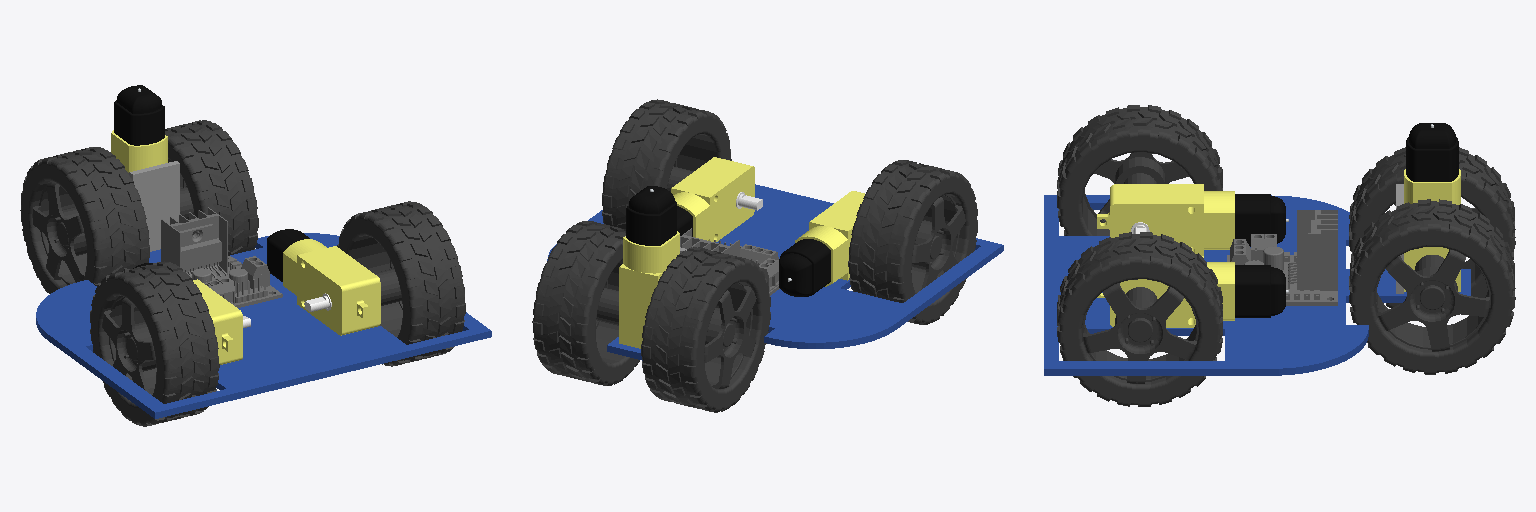
robot.urdf — cb_robot:
<?xml version="1.0" ?>
<!-- Generated using onshape-to-robot -->
<!-- Onshape https://cad.onshape.com/documents/0eaebba54d47f9cfcac04b70/w/70412a2964b95b8ac04e0aed/e/ed3f804d74e8a3e441704352 -->
<robot name="cb_robot">
  <!-- Link base -->
  <link name="base">
    <inertial>
      <origin xyz="0 0 0" rpy="0 0 0"/>
      <mass value="1e-09"/>
      <inertia ixx="1e-09" ixy="0" ixz="0" iyy="1e-09" iyz="0" izz="1e-09"/>
    </inertial>
    <!-- Part base -->
    <visual>
      <origin xyz="-5.30307e-08 0.0370338 0" rpy="0 -0 0"/>
      <geometry>
        <mesh filename="package://assets\base.stl"/>
      </geometry>
      <material name="base_material">
        <color rgba="0.231373 0.380392 0.705882 1.0"/>
      </material>
    </visual>
    <collision>
      <origin xyz="-5.30307e-08 0.0370338 0" rpy="0 -0 0"/>
      <geometry>
        <mesh filename="package://assets\base.stl"/>
      </geometry>
    </collision>
    <!-- Part l298n_motor_driver -->
    <visual>
      <origin xyz="1.25162e-18 0.023 0.003" rpy="-1.01343e-15 -2.63693e-46 3.14159"/>
      <geometry>
        <mesh filename="package://assets\l298n_motor_driver.stl"/>
      </geometry>
      <material name="l298n_motor_driver_material">
        <color rgba="0.498039 0.498039 0.498039 1.0"/>
      </material>
    </visual>
    <collision>
      <origin xyz="1.25162e-18 0.023 0.003" rpy="-1.01343e-15 -2.63693e-46 3.14159"/>
      <geometry>
        <mesh filename="package://assets\l298n_motor_driver.stl"/>
      </geometry>
    </collision>
    <!-- Part estaca -->
    <visual>
      <origin xyz="0.130264 0.0703149 -0.0353785" rpy="1.5708 1.0037e-51 1.01541e-33"/>
      <geometry>
        <mesh filename="package://assets\estaca.stl"/>
      </geometry>
      <material name="estaca_material">
        <color rgba="0.647059 0.647059 0.647059 1.0"/>
      </material>
    </visual>
    <collision>
      <origin xyz="0.130264 0.0703149 -0.0353785" rpy="1.5708 1.0037e-51 1.01541e-33"/>
      <geometry>
        <mesh filename="package://assets\estaca.stl"/>
      </geometry>
    </collision>
    <!-- Part real_bo_motor_frame -->
    <visual>
      <origin xyz="-0.000207165 0.0815649 0.038902" rpy="1.5708 3.28873e-51 -3.14159"/>
      <geometry>
        <mesh filename="package://assets\real_bo_motor_frame.stl"/>
      </geometry>
      <material name="real_bo_motor_frame_material">
        <color rgba="0.894118 0.913725 0.929412 1.0"/>
      </material>
    </visual>
    <collision>
      <origin xyz="-0.000207165 0.0815649 0.038902" rpy="1.5708 3.28873e-51 -3.14159"/>
      <geometry>
        <mesh filename="package://assets\real_bo_motor_frame.stl"/>
      </geometry>
    </collision>
    <!-- Part real_wheel -->
    <visual>
      <origin xyz="-0.0171492 0.0858956 0.0659684" rpy="3.12746 3.32528e-19 -3.14159"/>
      <geometry>
        <mesh filename="package://assets\real_wheel.stl"/>
      </geometry>
      <material name="real_wheel_material">
        <color rgba="0.298039 0.298039 0.298039 1.0"/>
      </material>
    </visual>
    <collision>
      <origin xyz="-0.0171492 0.0858956 0.0659684" rpy="3.12746 3.32528e-19 -3.14159"/>
      <geometry>
        <mesh filename="package://assets\real_wheel.stl"/>
      </geometry>
    </collision>
    <!-- Part real_bo_motor_frame_2 -->
    <visual>
      <origin xyz="-0.000207165 0.0815649 0.038902" rpy="1.5708 3.28873e-51 -3.14159"/>
      <geometry>
        <mesh filename="package://assets\real_bo_motor_frame__2.stl"/>
      </geometry>
      <material name="real_bo_motor_frame_2_material">
        <color rgba="0.101961 0.101961 0.101961 1.0"/>
      </material>
    </visual>
    <collision>
      <origin xyz="-0.000207165 0.0815649 0.038902" rpy="1.5708 3.28873e-51 -3.14159"/>
      <geometry>
        <mesh filename="package://assets\real_bo_motor_frame__2.stl"/>
      </geometry>
    </collision>
    <!-- Part shaft -->
    <visual>
      <origin xyz="-0.000197165 0.0815649 0.012902" rpy="-1.5708 -1.49775 1.5708"/>
      <geometry>
        <mesh filename="package://assets\shaft.stl"/>
      </geometry>
      <material name="shaft_material">
        <color rgba="1 1 1 1.0"/>
      </material>
    </visual>
    <collision>
      <origin xyz="-0.000197165 0.0815649 0.012902" rpy="-1.5708 -1.49775 1.5708"/>
      <geometry>
        <mesh filename="package://assets\shaft.stl"/>
      </geometry>
    </collision>
    <!-- Part real_wheel_2 -->
    <visual>
      <origin xyz="0.0167548 0.0781245 -0.0402297" rpy="-0.160221 2.22183e-20 2.76751e-19"/>
      <geometry>
        <mesh filename="package://assets\real_wheel.stl"/>
      </geometry>
      <material name="real_wheel_2_material">
        <color rgba="0.298039 0.298039 0.298039 1.0"/>
      </material>
    </visual>
    <collision>
      <origin xyz="0.0167548 0.0781245 -0.0402297" rpy="-0.160221 2.22183e-20 2.76751e-19"/>
      <geometry>
        <mesh filename="package://assets\real_wheel.stl"/>
      </geometry>
    </collision>
    <!-- Part real_bo_motor_gear_box -->
    <visual>
      <origin xyz="-0.000207165 0.0815649 0.020402" rpy="3.14159 1.5708 0"/>
      <geometry>
        <mesh filename="package://assets\real_bo_motor_gear_box.stl"/>
      </geometry>
      <material name="real_bo_motor_gear_box_material">
        <color rgba="1 1 0.501961 1.0"/>
      </material>
    </visual>
    <collision>
      <origin xyz="-0.000207165 0.0815649 0.020402" rpy="3.14159 1.5708 0"/>
      <geometry>
        <mesh filename="package://assets\real_bo_motor_gear_box.stl"/>
      </geometry>
    </collision>
    <!-- Part real_bo_motor_frame_3 -->
    <visual>
      <origin xyz="0.0327797 -0.00671779 0.01425" rpy="-0 -1.5708 0"/>
      <geometry>
        <mesh filename="package://assets\real_bo_motor_frame.stl"/>
      </geometry>
      <material name="real_bo_motor_frame_3_material">
        <color rgba="0.894118 0.913725 0.929412 1.0"/>
      </material>
    </visual>
    <collision>
      <origin xyz="0.0327797 -0.00671779 0.01425" rpy="-0 -1.5708 0"/>
      <geometry>
        <mesh filename="package://assets\real_bo_motor_frame.stl"/>
      </geometry>
    </collision>
    <!-- Part real_wheel_3 -->
    <visual>
      <origin xyz="0.0497217 -0.0859494 0.0131544" rpy="-1.64578 -0 0"/>
      <geometry>
        <mesh filename="package://assets\real_wheel.stl"/>
      </geometry>
      <material name="real_wheel_3_material">
        <color rgba="0.298039 0.298039 0.298039 1.0"/>
      </material>
    </visual>
    <collision>
      <origin xyz="0.0497217 -0.0859494 0.0131544" rpy="-1.64578 -0 0"/>
      <geometry>
        <mesh filename="package://assets\real_wheel.stl"/>
      </geometry>
    </collision>
    <!-- Part real_bo_motor_gear_box_2 -->
    <visual>
      <origin xyz="0.0327797 -0.0252178 0.01425" rpy="-1.5708 -0 -1.5708"/>
      <geometry>
        <mesh filename="package://assets\real_bo_motor_gear_box.stl"/>
      </geometry>
      <material name="real_bo_motor_gear_box_2_material">
        <color rgba="1 1 0.501961 1.0"/>
      </material>
    </visual>
    <collision>
      <origin xyz="0.0327797 -0.0252178 0.01425" rpy="-1.5708 -0 -1.5708"/>
      <geometry>
        <mesh filename="package://assets\real_bo_motor_gear_box.stl"/>
      </geometry>
    </collision>
    <!-- Part shaft_2 -->
    <visual>
      <origin xyz="0.0327697 -0.0327178 0.01425" rpy="1.5708 -0.0121949 1.5708"/>
      <geometry>
        <mesh filename="package://assets\shaft.stl"/>
      </geometry>
      <material name="shaft_2_material">
        <color rgba="1 1 1 1.0"/>
      </material>
    </visual>
    <collision>
      <origin xyz="0.0327697 -0.0327178 0.01425" rpy="1.5708 -0.0121949 1.5708"/>
      <geometry>
        <mesh filename="package://assets\shaft.stl"/>
      </geometry>
    </collision>
    <!-- Part real_bo_motor_frame_4 -->
    <visual>
      <origin xyz="0.0327797 -0.00671779 0.01425" rpy="0 -0 0"/>
      <geometry>
        <mesh filename="package://assets\real_bo_motor_frame__2.stl"/>
      </geometry>
      <material name="real_bo_motor_frame_4_material">
        <color rgba="0.101961 0.101961 0.101961 1.0"/>
      </material>
    </visual>
    <collision>
      <origin xyz="0.0327797 -0.00671779 0.01425" rpy="0 -0 0"/>
      <geometry>
        <mesh filename="package://assets\real_bo_motor_frame__2.stl"/>
      </geometry>
    </collision>
    <!-- Part real_bo_motor_frame_5 -->
    <visual>
      <origin xyz="-0.0330003 -0.00671779 0.01425" rpy="-0 1.5708 0"/>
      <geometry>
        <mesh filename="package://assets\real_bo_motor_frame.stl"/>
      </geometry>
      <material name="real_bo_motor_frame_5_material">
        <color rgba="0.894118 0.913725 0.929412 1.0"/>
      </material>
    </visual>
    <collision>
      <origin xyz="-0.0330003 -0.00671779 0.01425" rpy="-0 1.5708 0"/>
      <geometry>
        <mesh filename="package://assets\real_bo_motor_frame.stl"/>
      </geometry>
    </collision>
    <!-- Part real_wheel_4 -->
    <visual>
      <origin xyz="-0.0499423 -0.0854249 0.0217843" rpy="1.61722 -0 3.14159"/>
      <geometry>
        <mesh filename="package://assets\real_wheel.stl"/>
      </geometry>
      <material name="real_wheel_4_material">
        <color rgba="0.298039 0.298039 0.298039 1.0"/>
      </material>
    </visual>
    <collision>
      <origin xyz="-0.0499423 -0.0854249 0.0217843" rpy="1.61722 -0 3.14159"/>
      <geometry>
        <mesh filename="package://assets\real_wheel.stl"/>
      </geometry>
    </collision>
    <!-- Part real_bo_motor_gear_box_3 -->
    <visual>
      <origin xyz="-0.0330003 -0.0252178 0.01425" rpy="1.5708 -0 -1.5708"/>
      <geometry>
        <mesh filename="package://assets\real_bo_motor_gear_box.stl"/>
      </geometry>
      <material name="real_bo_motor_gear_box_3_material">
        <color rgba="1 1 0.501961 1.0"/>
      </material>
    </visual>
    <collision>
      <origin xyz="-0.0330003 -0.0252178 0.01425" rpy="1.5708 -0 -1.5708"/>
      <geometry>
        <mesh filename="package://assets\real_bo_motor_gear_box.stl"/>
      </geometry>
    </collision>
    <!-- Part shaft_3 -->
    <visual>
      <origin xyz="-0.0329903 -0.0327178 0.01425" rpy="-1.5708 0.133601 1.5708"/>
      <geometry>
        <mesh filename="package://assets\shaft.stl"/>
      </geometry>
      <material name="shaft_3_material">
        <color rgba="1 1 1 1.0"/>
      </material>
    </visual>
    <collision>
      <origin xyz="-0.0329903 -0.0327178 0.01425" rpy="-1.5708 0.133601 1.5708"/>
      <geometry>
        <mesh filename="package://assets\shaft.stl"/>
      </geometry>
    </collision>
    <!-- Part real_bo_motor_frame_6 -->
    <visual>
      <origin xyz="-0.0330003 -0.00671779 0.01425" rpy="3.14159 -0 3.14159"/>
      <geometry>
        <mesh filename="package://assets\real_bo_motor_frame__2.stl"/>
      </geometry>
      <material name="real_bo_motor_frame_6_material">
        <color rgba="0.101961 0.101961 0.101961 1.0"/>
      </material>
    </visual>
    <collision>
      <origin xyz="-0.0330003 -0.00671779 0.01425" rpy="3.14159 -0 3.14159"/>
      <geometry>
        <mesh filename="package://assets\real_bo_motor_frame__2.stl"/>
      </geometry>
    </collision>
  </link>
</robot>

--- Facts derived from the render (not from the file) ---
Views: 3 orthographic renders of the robot side by side, from view 1: azimuth 30°, elevation 25°; view 2: azimuth 150°, elevation 25°; view 3: azimuth 270°, elevation 25°.
Robot: cb_robot — 1 links, 0 joints (none); root link base; default pose: every joint at zero.
Links seen in each view (by area): view 1: base; view 2: base; view 3: base.
Link boxes in pixels (<box>): base: <box>20,85,491,426</box>; base: <box>532,99,1003,412</box>; base: <box>1044,105,1515,406</box>.
Bounding box of the posed robot: 0.1606 × 0.1843 × 0.0905 m (x, y, z).
Meshes: 8 distinct files referenced, 19 mesh visuals loaded (8 binary STL).